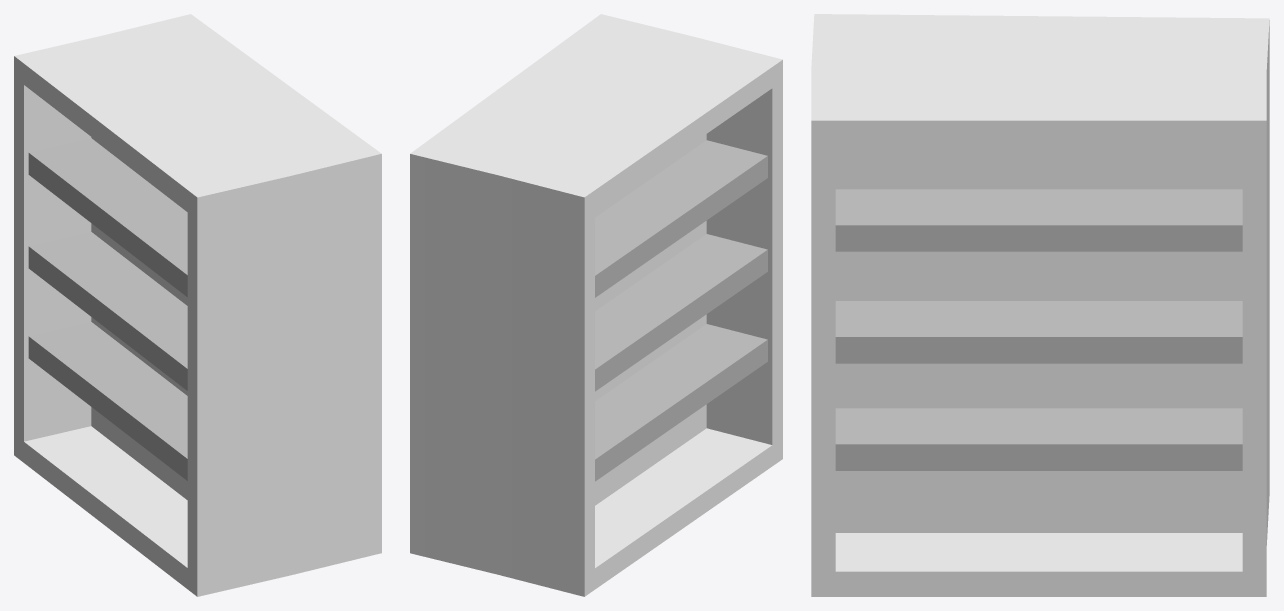
File: Target Shelf.fbx
3 views of the same model, side by side, from view 1: azimuth 30°, elevation 25°; view 2: azimuth 150°, elevation 25°; view 3: azimuth 270°, elevation 25° (orthographic). The views are drawn at different scales.
Visible parts, largest first — view 1: polySurface2; view 2: polySurface2; view 3: polySurface2.
Part boxes in pixels (left/top/right/bottom): polySurface2: left=14, top=14, right=381, bottom=596; polySurface2: left=410, top=14, right=782, bottom=596; polySurface2: left=811, top=14, right=1269, bottom=596.
Size of the model in its own units: 2.17 by 4.51 by 3.94.
